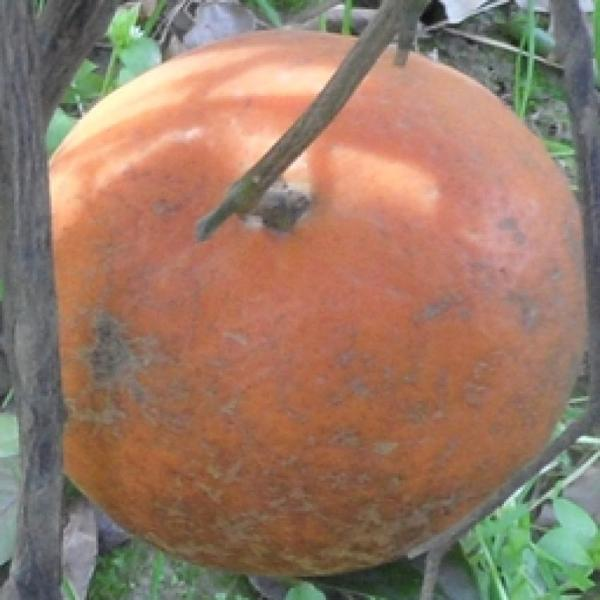Canker: (35, 36, 593, 563)
